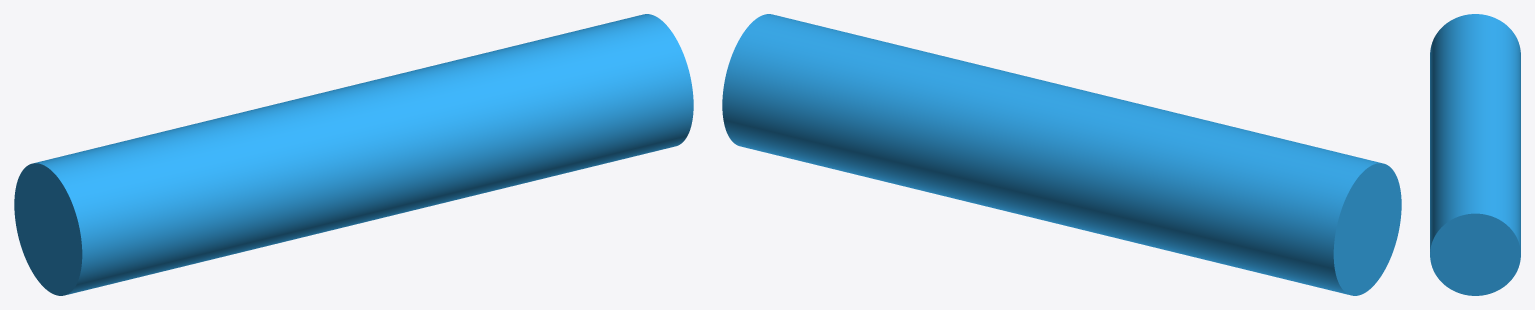
The model's file is fcjnw.obj.
3 views of the same model, side by side, from view 1: azimuth 30°, elevation 25°; view 2: azimuth 150°, elevation 25°; view 3: azimuth 270°, elevation 25° (orthographic). The views are drawn at different scales.
Parts seen in each view (by area): view 1: Cylinder004; view 2: Cylinder004; view 3: Cylinder004.
Part boxes in pixels (x1,y1,x2,y2): Cylinder004: [14, 14, 693, 295]; Cylinder004: [722, 14, 1401, 295]; Cylinder004: [1430, 14, 1520, 295].
Bounding box in the file's own units: 3238 × 623 × 623.
